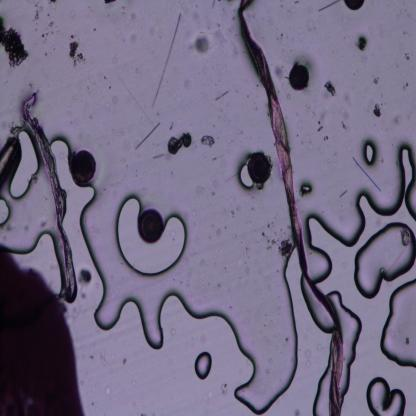Air bubble: (85, 192, 299, 414), (116, 195, 188, 279), (378, 278, 416, 369), (366, 375, 408, 415), (195, 350, 213, 380), (361, 139, 379, 167), (239, 163, 254, 191), (300, 178, 310, 195)
Background material: (0, 10, 29, 70), (134, 117, 162, 156), (29, 10, 55, 43), (162, 130, 192, 156), (189, 30, 212, 60), (66, 36, 87, 66), (320, 115, 337, 145), (262, 218, 277, 251), (278, 236, 294, 258), (214, 89, 236, 103), (201, 130, 216, 147), (324, 79, 338, 97), (80, 265, 92, 286), (401, 49, 415, 66), (354, 36, 368, 53), (372, 101, 384, 120), (371, 76, 379, 88), (102, 0, 116, 6)
Cellulose filter fibre: (21, 91, 79, 305)
Cotton: (238, 1, 343, 415)
Diatom: (307, 136, 416, 278), (354, 221, 416, 298), (0, 179, 53, 254), (340, 297, 362, 382), (302, 289, 334, 338), (138, 207, 164, 244), (72, 150, 97, 183), (248, 152, 270, 184), (289, 64, 310, 89), (343, 1, 366, 12)
Pen: (0, 247, 89, 415)
